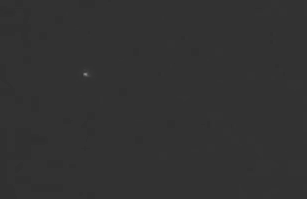Target: (84, 74, 89, 77)
